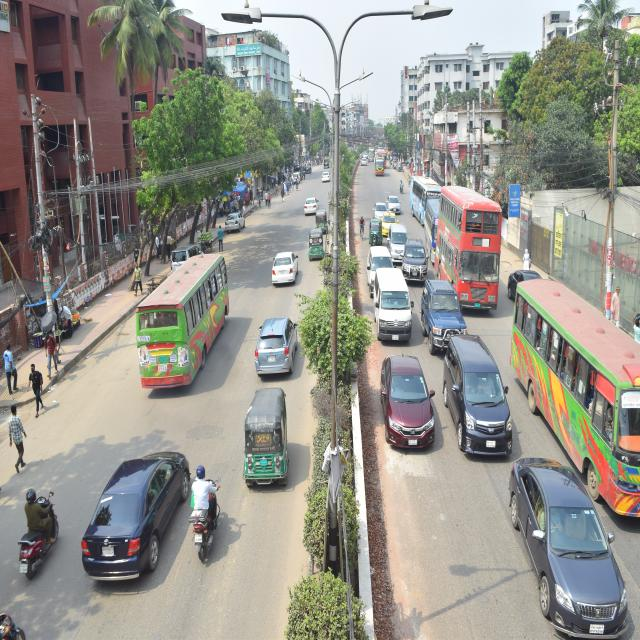bus: (509, 268, 640, 553), (125, 240, 240, 399), (432, 174, 505, 311), (409, 173, 436, 230)
car: (510, 447, 636, 640), (78, 436, 191, 587), (378, 347, 437, 456), (419, 269, 477, 349), (251, 305, 302, 387), (267, 237, 306, 292), (401, 233, 431, 287), (383, 219, 411, 262), (220, 205, 250, 234), (384, 192, 405, 221), (366, 200, 391, 220), (304, 190, 321, 218), (320, 164, 331, 184)
microbus: (436, 326, 521, 461), (370, 269, 418, 353), (361, 242, 397, 290)
motorbike: (8, 478, 67, 562), (184, 478, 231, 570), (398, 167, 408, 195)
